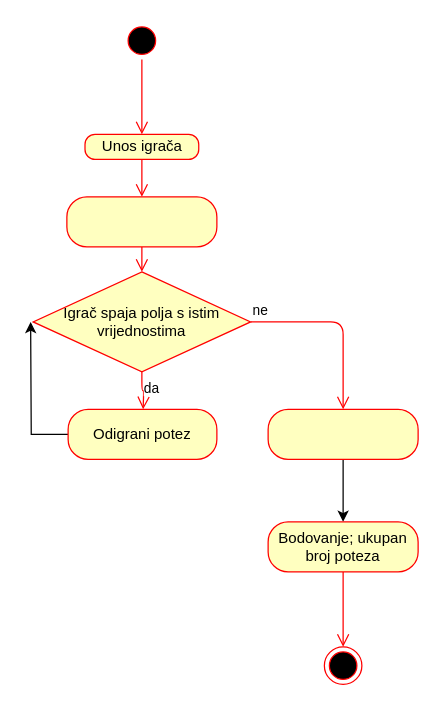
The diagram is 440 pixels wide and 706 high, and some of its shapes have lost their labels. Here are the shapes that lost their labels. From the top down, the centre of each, then its label:
At (141,221): "Prikaz polja s brojevima".
At (342,433): "Dodavanje novog polja s novim vrijednotima".
